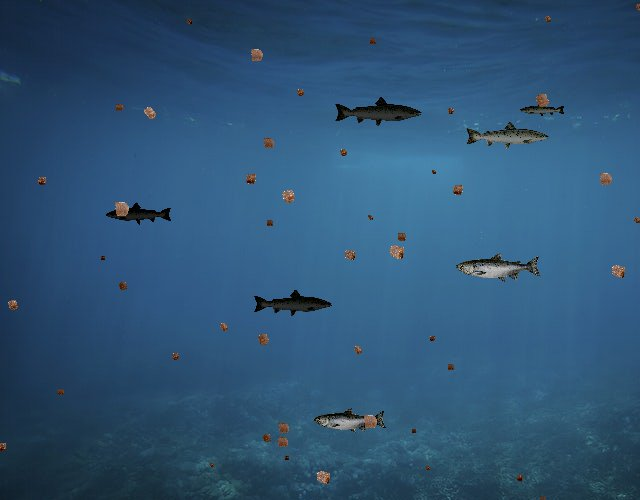Fish: (334, 96, 424, 128), (464, 120, 550, 151), (456, 252, 542, 283), (253, 289, 334, 318), (314, 407, 387, 434), (106, 202, 174, 226), (519, 101, 566, 118)
Pellet: (106, 194, 136, 223), (243, 42, 270, 69), (1, 294, 24, 316), (240, 168, 262, 190), (348, 341, 367, 360), (392, 228, 410, 246), (512, 471, 526, 485), (366, 34, 380, 48), (426, 332, 439, 345), (183, 15, 196, 28), (206, 460, 216, 470)
